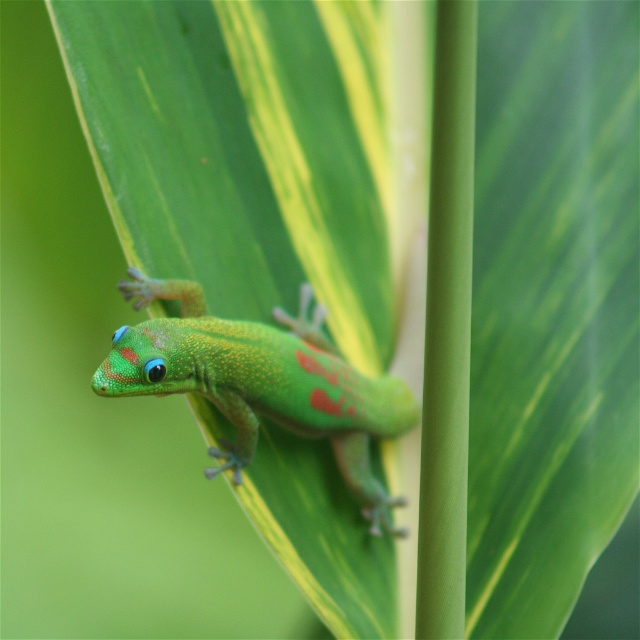Lizard: (99, 287, 431, 528)
